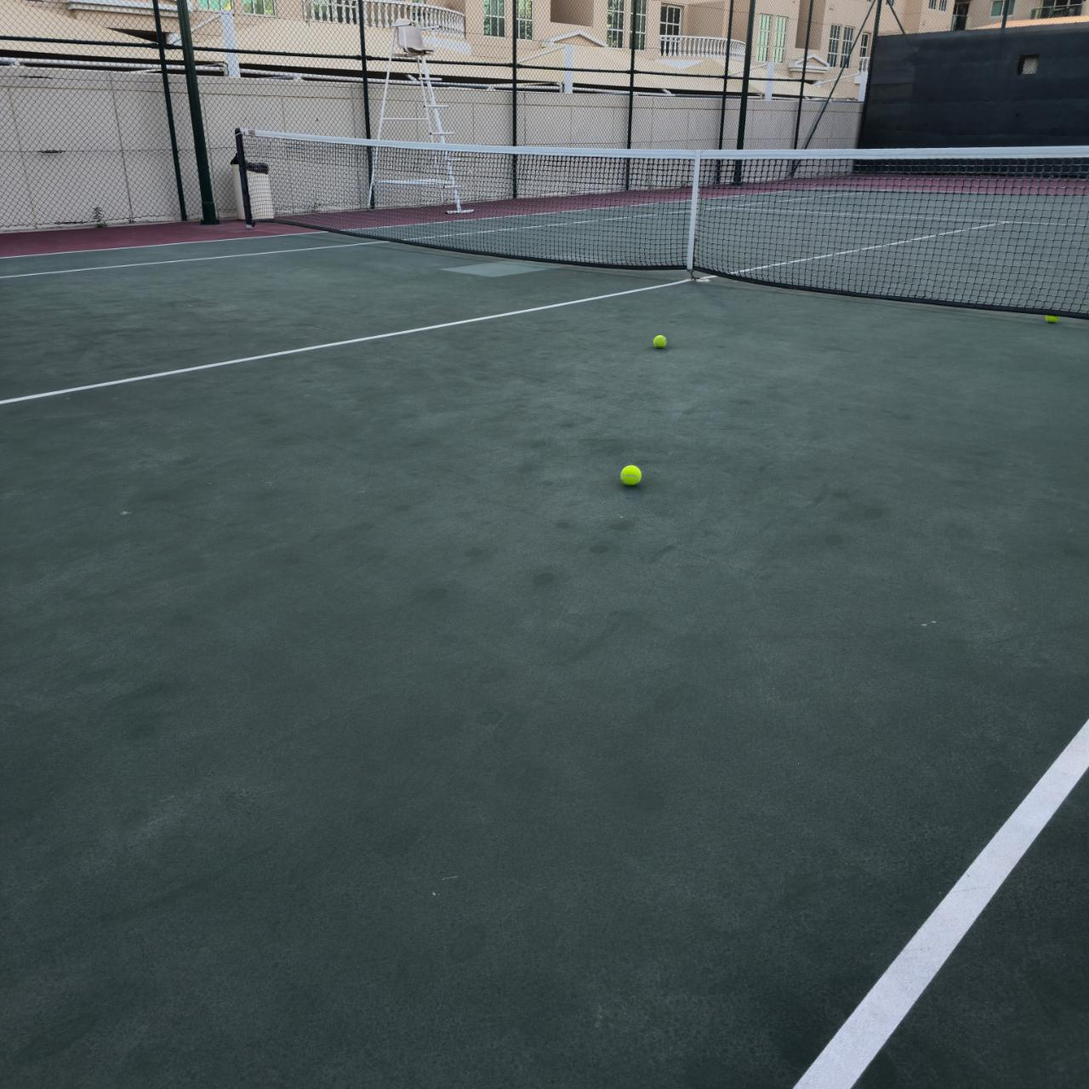tennis-ball: (618, 461, 642, 486), (650, 332, 667, 349), (1046, 311, 1059, 324)
